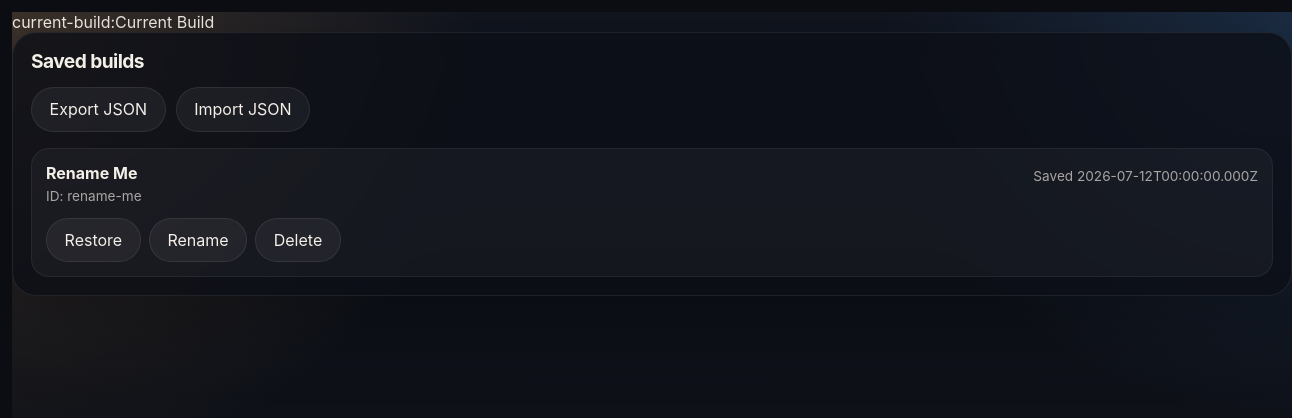
Test: Saved builds UI › renames a saved build inline
Click the button "Rename" at (198, 240), box [149,218,247,262]
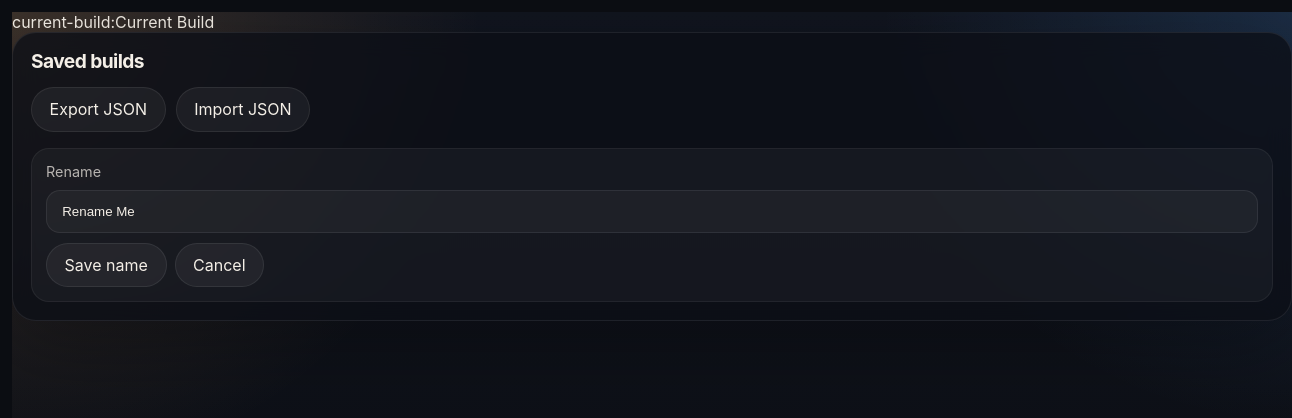
Replace the text in the field labelled "Rename" with "Renamed Build" at (652, 211), box [46,190,1258,233]
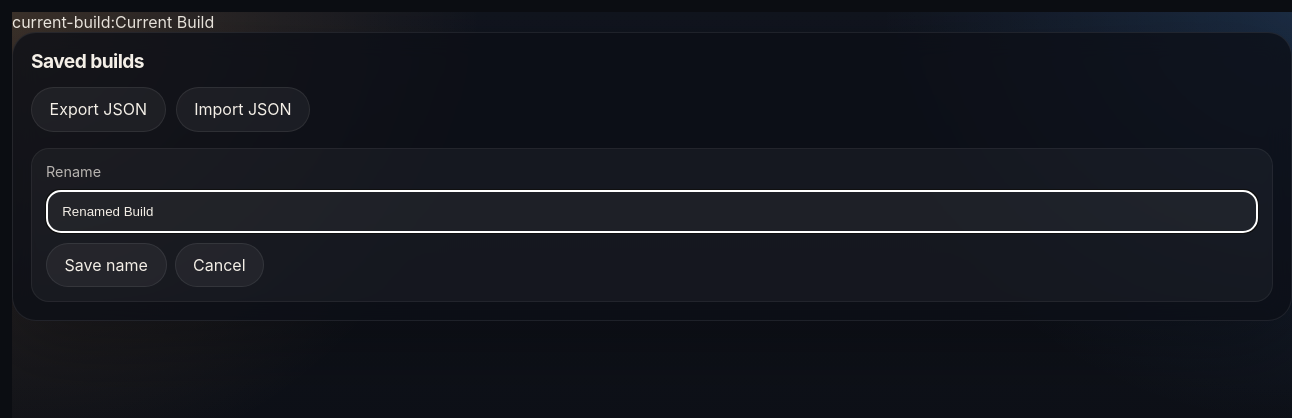
Click the button "Save name" at (106, 265), box [46,243,166,287]
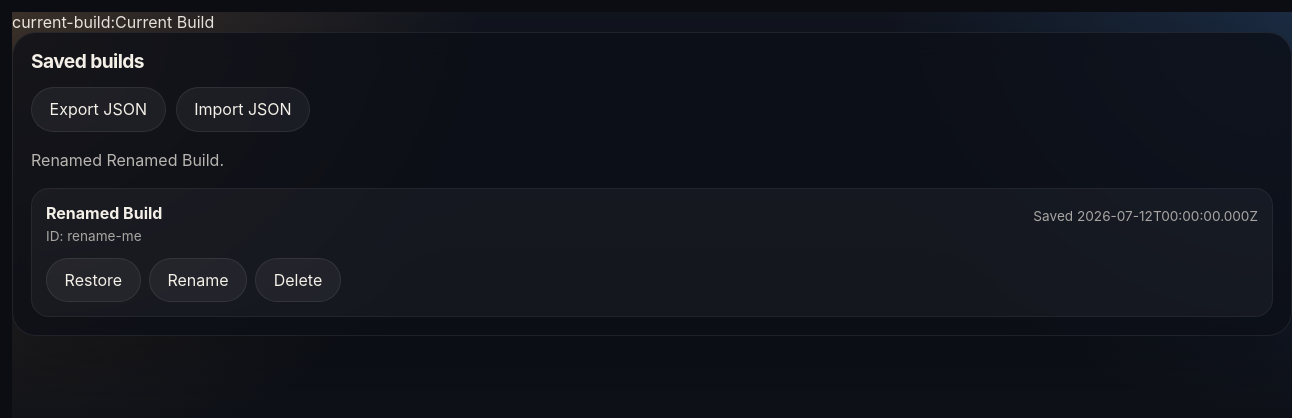
Now the heading "Renamed Build" is shown, box [46,202,162,222]
